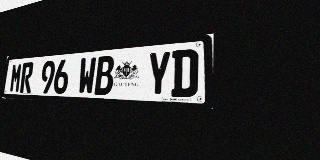6: (53, 59, 70, 94)
9: (40, 60, 56, 94)
B: (94, 55, 115, 95)
D: (171, 48, 199, 97)
M: (9, 63, 23, 93)
R: (20, 62, 34, 93)
W: (78, 57, 97, 95)
Y: (146, 51, 171, 97)
